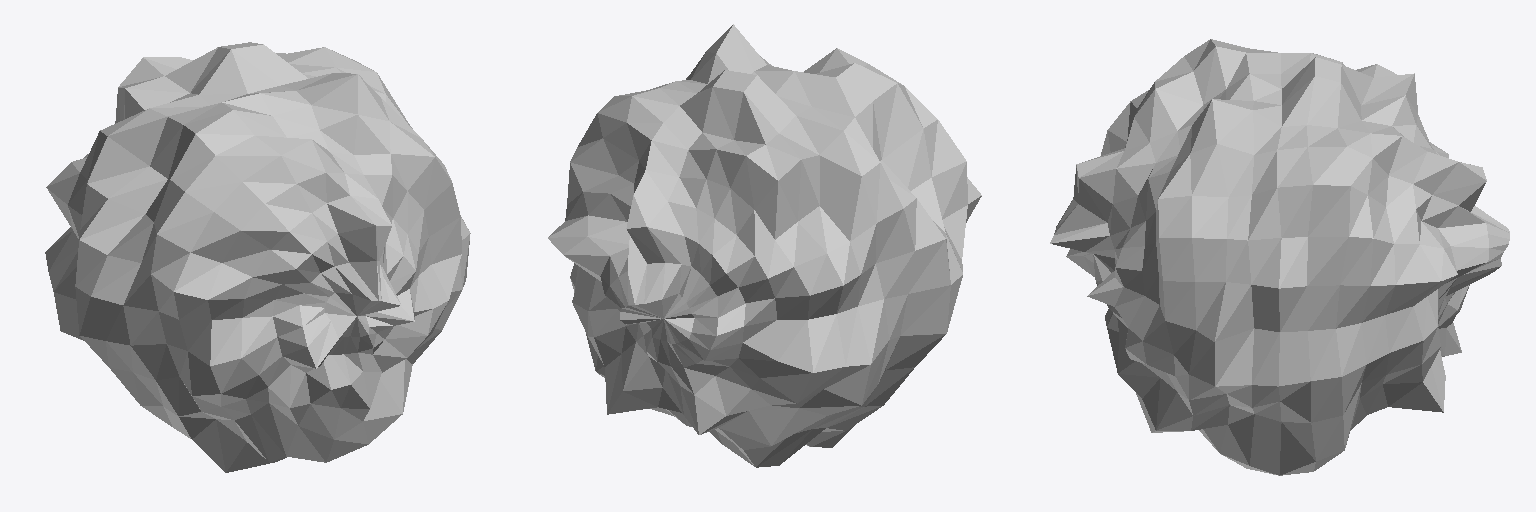
File: asteroid1k.obj
The picture shows the model from 3 angles: view 1: azimuth 30°, elevation 25°; view 2: azimuth 150°, elevation 25°; view 3: azimuth 270°, elevation 25°; orthographic projection.
Bounding box in the file's own units: 2.48 × 2.54 × 2.72.